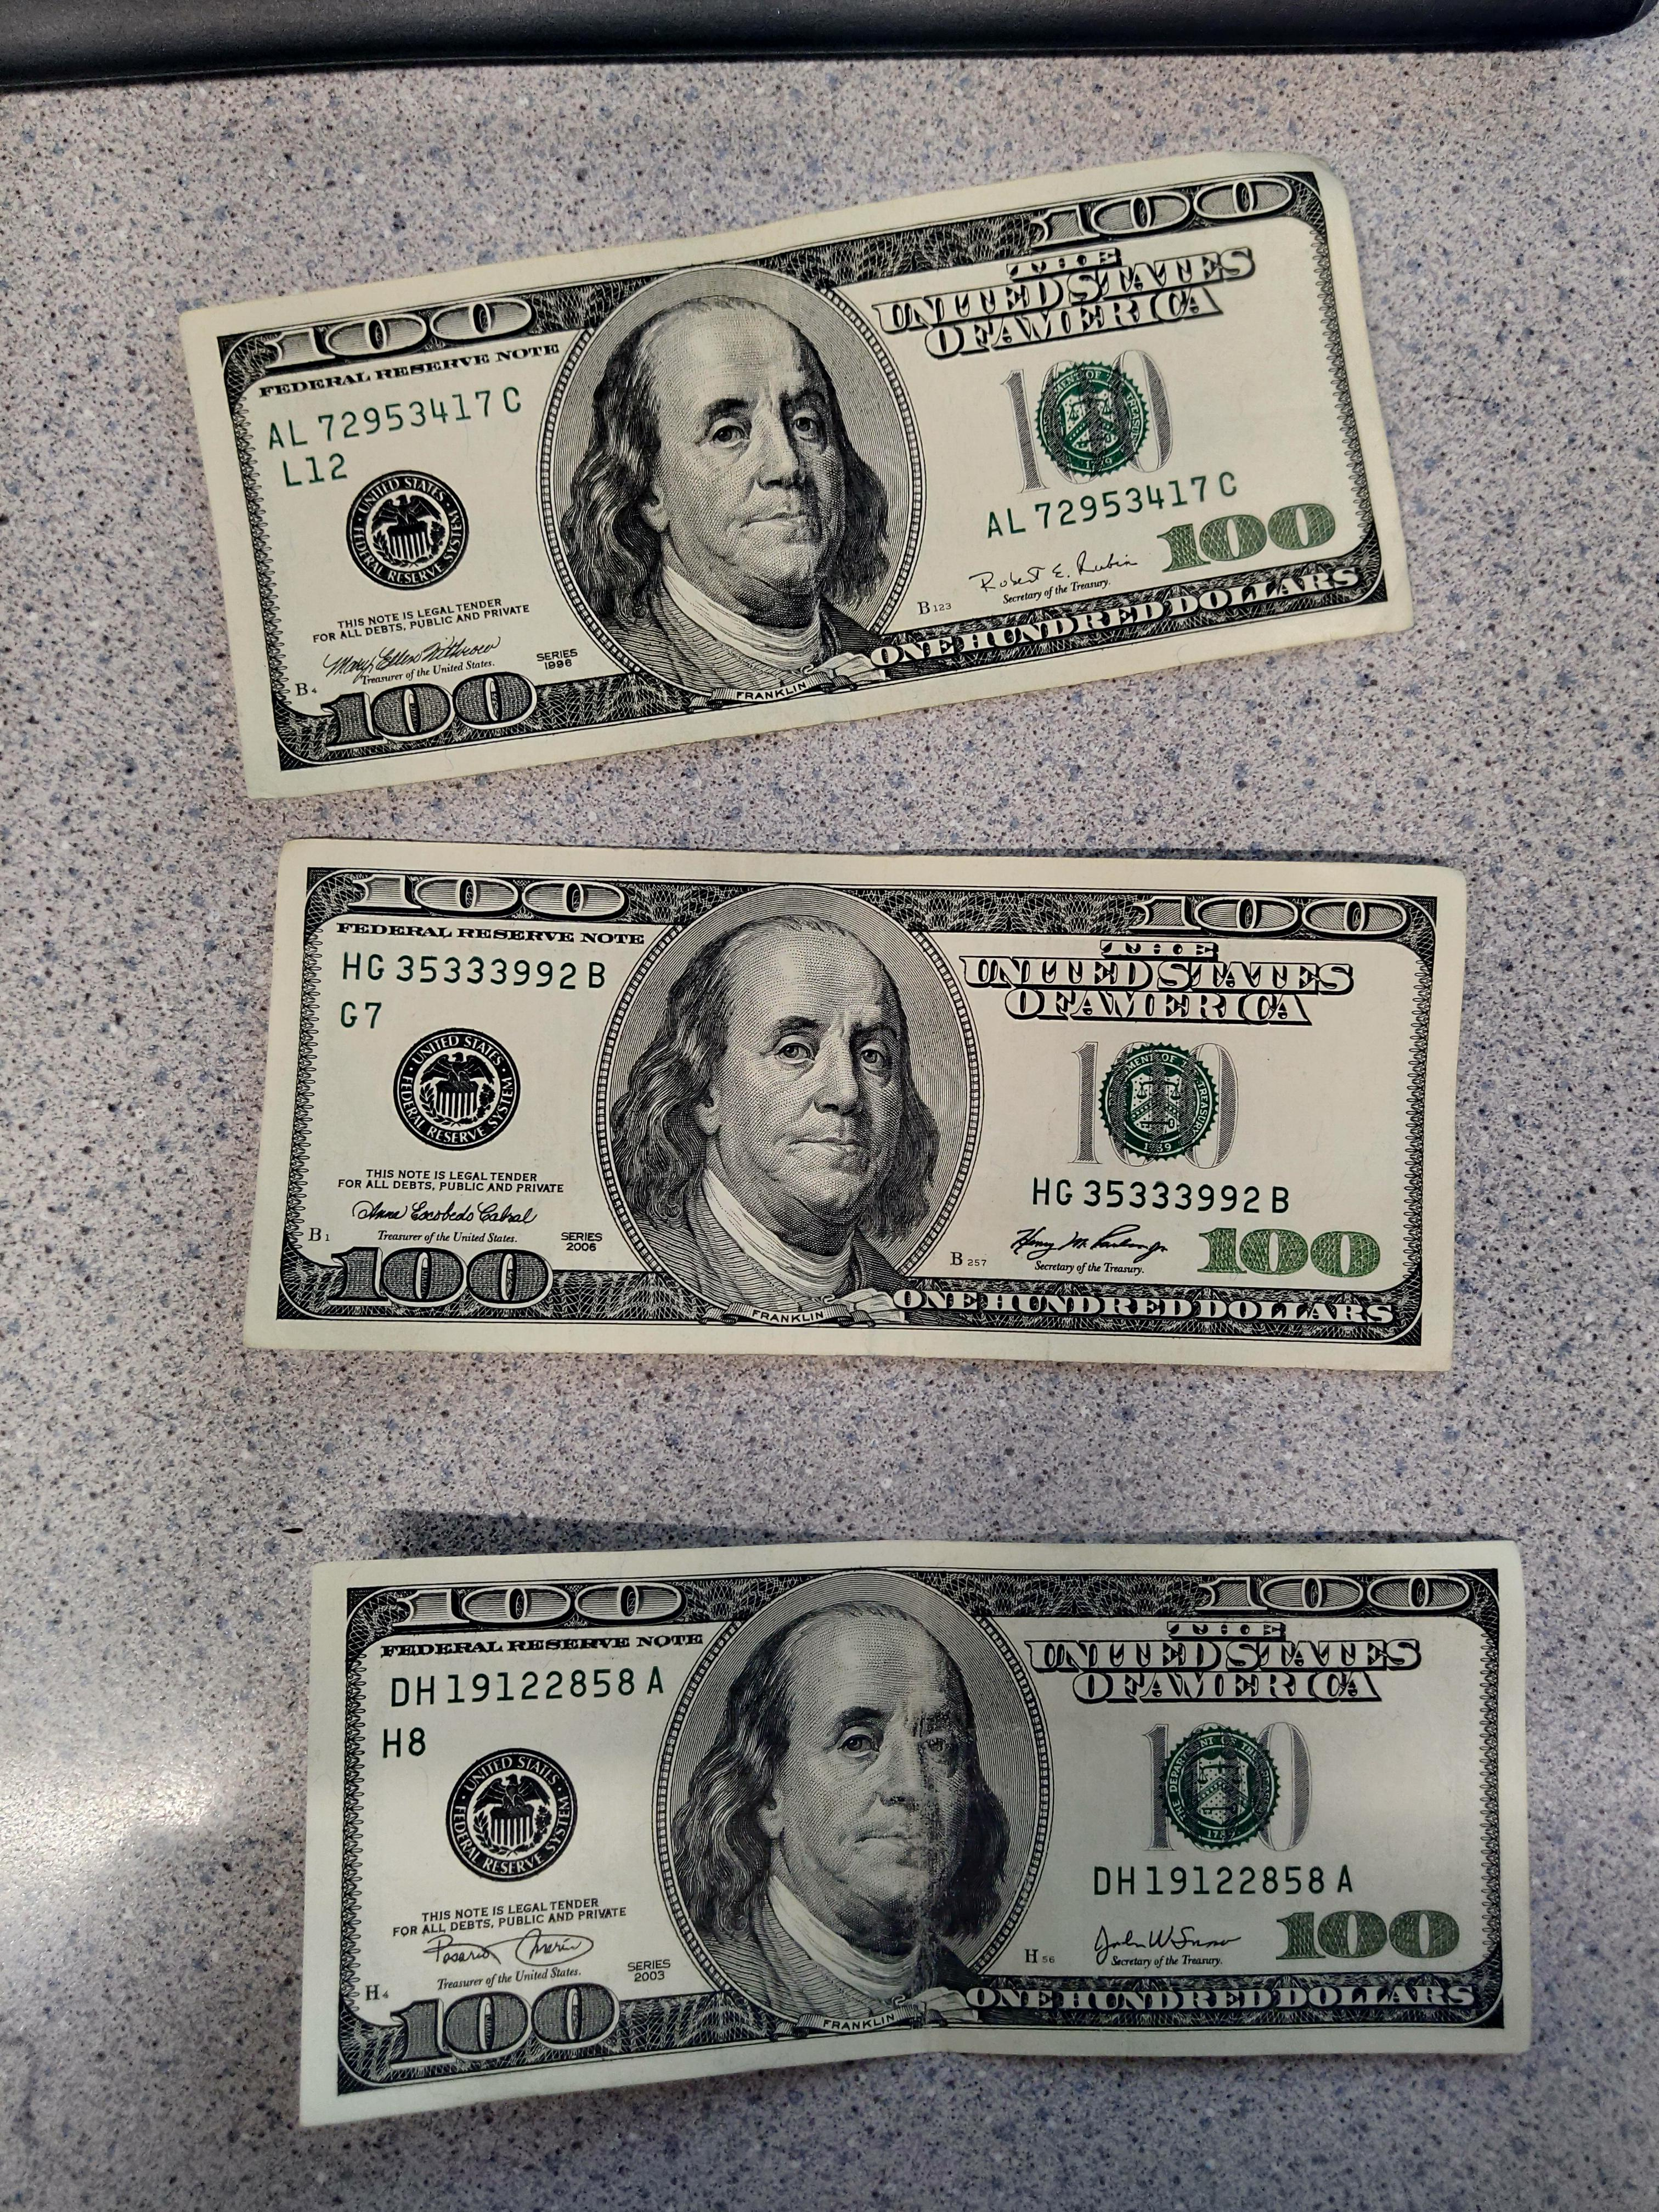HundredBill: (176, 148, 1415, 810), (289, 1536, 1542, 2132), (228, 836, 1478, 1372)
